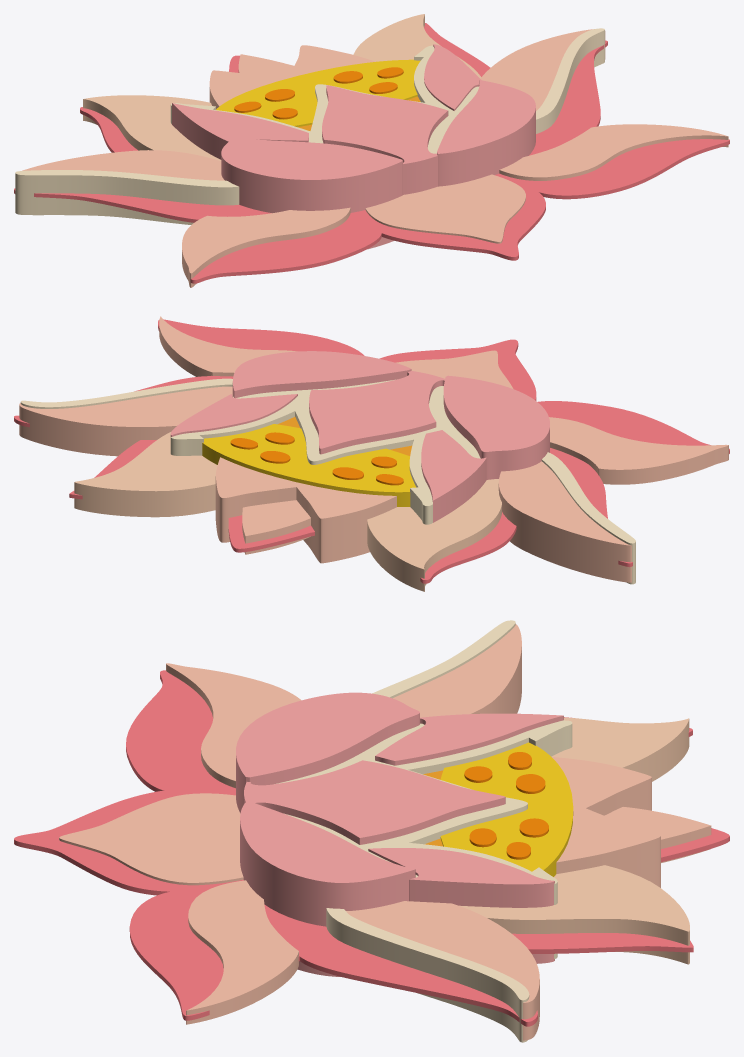
The model's file is emoji_u1fab7.glb.
3 renders of one model, top to bottom at view 1: azimuth 30°, elevation 25°; view 2: azimuth 150°, elevation 25°; view 3: azimuth 270°, elevation 25°, orthographic. The views are drawn at different scales.
Visible parts, largest first — view 1: emoji_u1fab7; view 2: emoji_u1fab7; view 3: emoji_u1fab7.
Boxes of the visible parts, bbox=[...] form: emoji_u1fab7: bbox=[14, 14, 729, 287]; emoji_u1fab7: bbox=[14, 316, 729, 591]; emoji_u1fab7: bbox=[14, 620, 729, 1042].
Size of the model in its own units: 0.0345 by 0.0042 by 0.0276.
